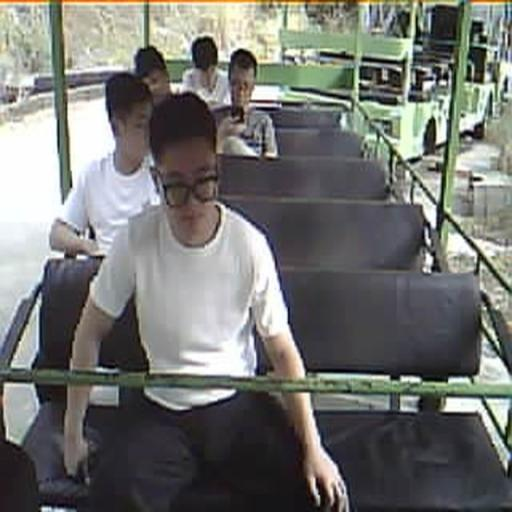persona: (62, 90, 350, 511), (48, 72, 163, 260), (212, 48, 278, 159), (180, 35, 232, 107), (132, 44, 174, 106)
